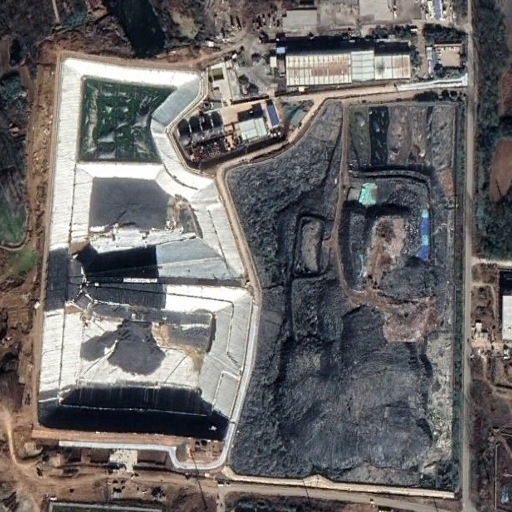lf: (42, 49, 476, 504)
